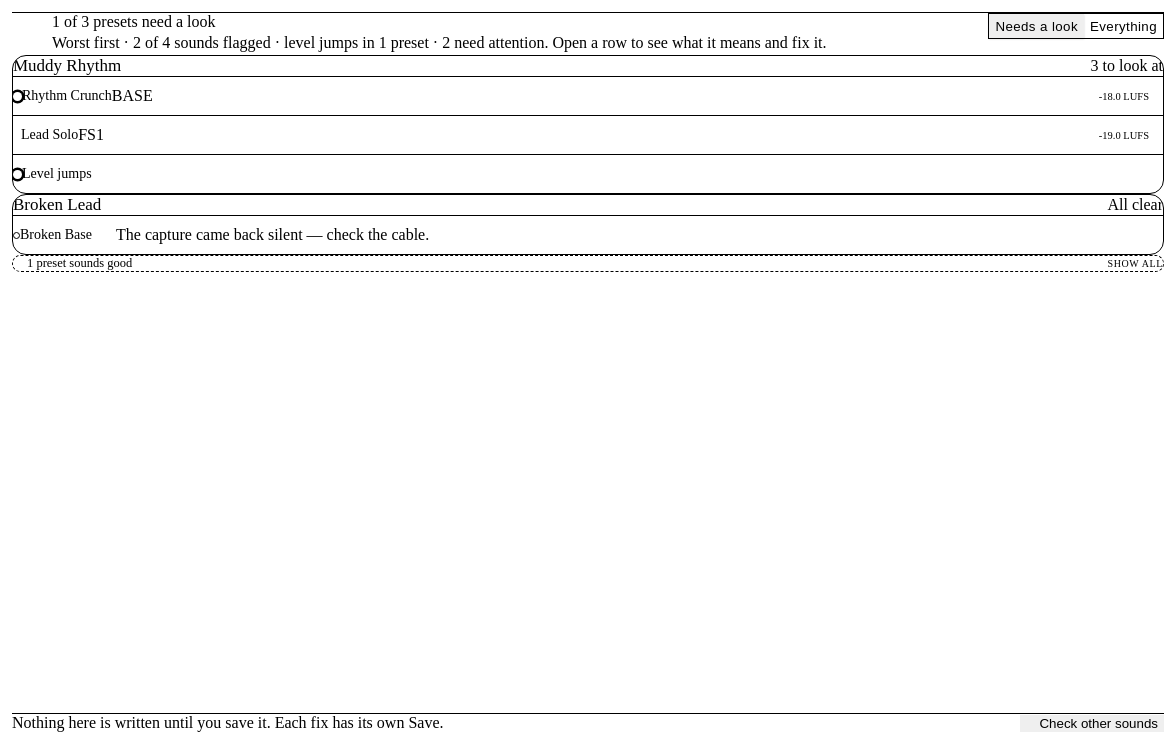
Test case: DoctorResults — filter › hides fully-clean presets by default and flips via the 'Show all' strip
Check: the text "Studio Clean" is not shown
Click the text "1 preset sounds good" at (80, 264), box [27,256,132,271]
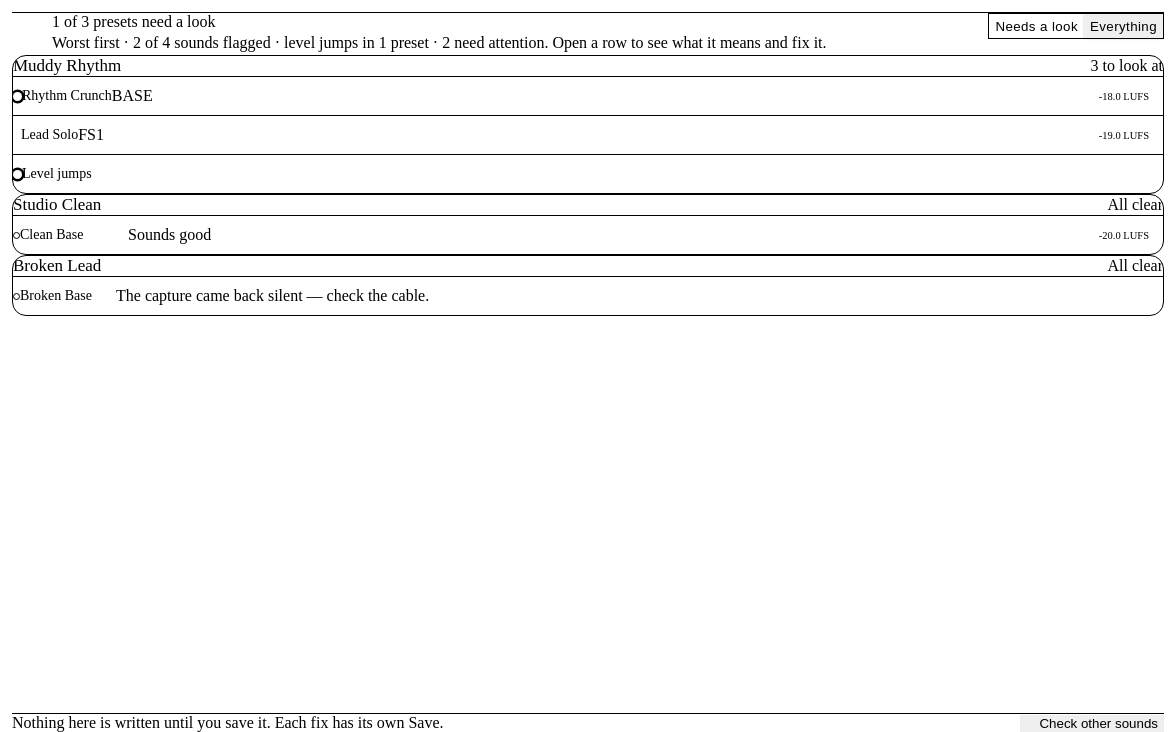
Check: the text "Studio Clean" is shown, box [13,195,101,214]
